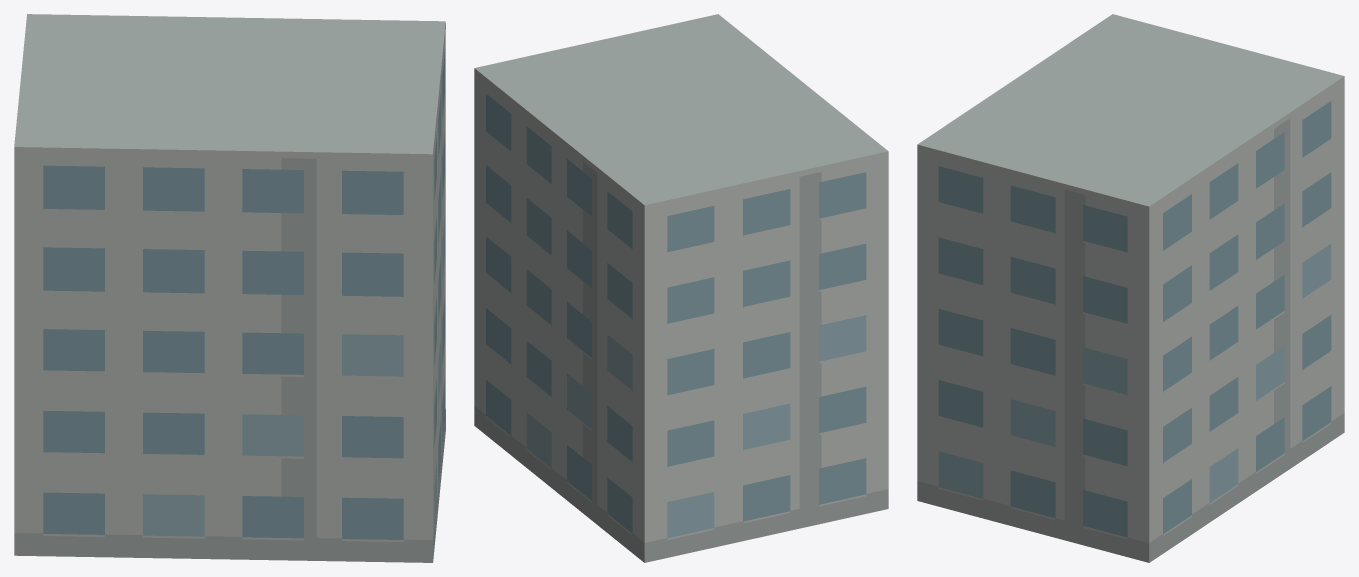
Rendered from residential-20ef7c47-20fe-435a-9cae-f478da382071.glb.
3 views of the same model, side by side, from view 1: azimuth 30°, elevation 25°; view 2: azimuth 150°, elevation 25°; view 3: azimuth 270°, elevation 25° (orthographic). The views are drawn at different scales.
Parts seen in each view (by area): view 1: residential-20ef7c47-20fe-435a-9cae-f478da382071.tmp; view 2: residential-20ef7c47-20fe-435a-9cae-f478da382071.tmp; view 3: residential-20ef7c47-20fe-435a-9cae-f478da382071.tmp.
Part boxes in pixels (box(x1,y1,x2,y2)): residential-20ef7c47-20fe-435a-9cae-f478da382071.tmp: box(14, 14, 445, 562); residential-20ef7c47-20fe-435a-9cae-f478da382071.tmp: box(474, 14, 888, 562); residential-20ef7c47-20fe-435a-9cae-f478da382071.tmp: box(917, 14, 1344, 562).
Size of the model in its own units: 17.68 by 15.25 by 16.59.
